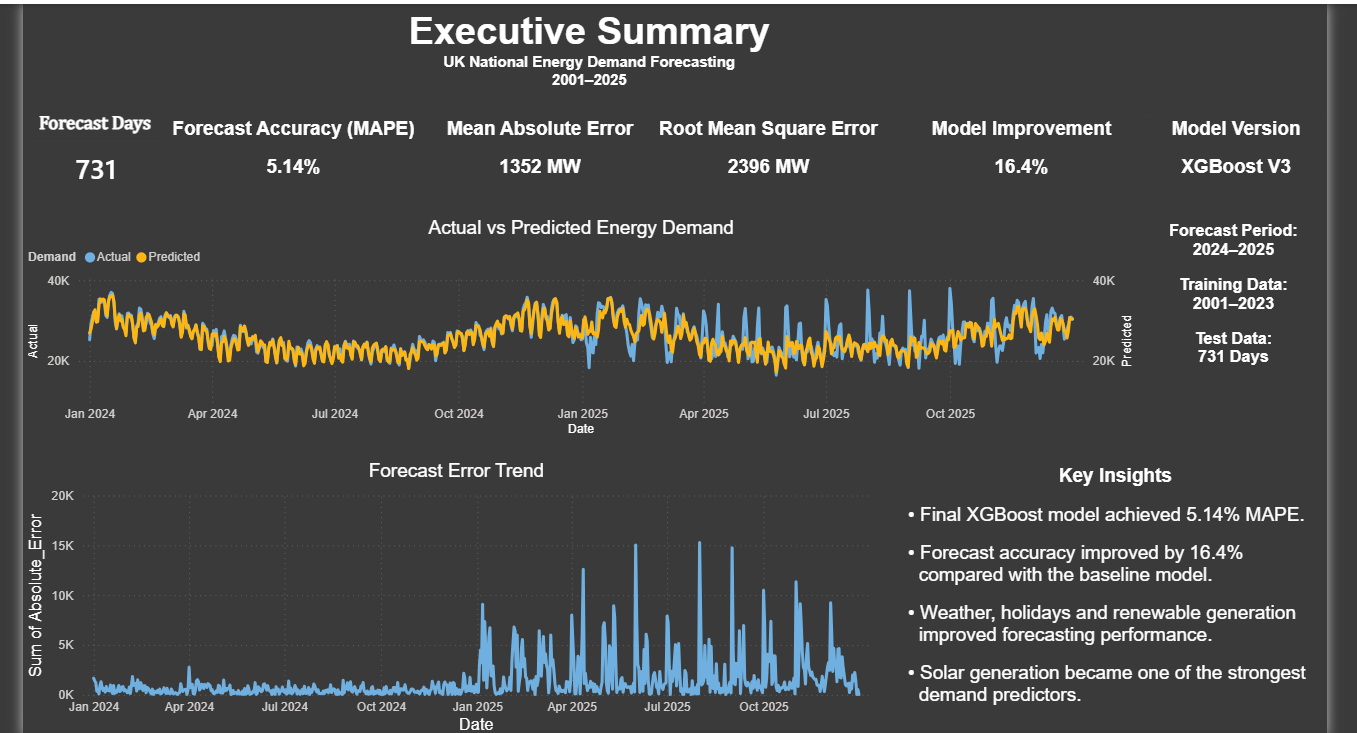

This screenshot's page, from the dashboard's own definition file:
{"tool":"powerbi","page":{"name":"Executive Summary","canvas":[1280,720],"ordinal":0},"visuals":[{"type":"textbox","box":[89.6,0,932.5,88.3],"z":0},{"type":"cardVisual","title":"Forecast Days","fields":{"Data":["CountNonNull(forecast_results.Date)"]},"box":[0,106.7,141.1,85.9],"z":1000},{"type":"textbox","box":[140.6,107,248.8,87.1],"z":2000},{"type":"textbox","box":[404.3,107,207.7,88.3],"z":3000},{"type":"textbox","box":[612,107,238.8,87.1],"z":4000},{"type":"textbox","box":[863.3,107,232.6,85.8],"z":5000},{"type":"textbox","box":[1102.1,107,177.9,85.8],"z":6000},{"type":"lineChart","title":"Actual vs Predicted Energy Demand","fields":{"Y":["Sum(forecast_results.Actual)"],"Category":["forecast_results.Date"],"Y2":["Sum(forecast_results.Predicted)"]},"box":[0,209,1095.9,220.2],"z":7000},{"type":"lineChart","title":"Forecast Error Trend","fields":{"Category":["forecast_results.Date"],"Y":["Sum(forecast_results.Absolute_Error)"]},"box":[0,447.3,850.8,273.1],"z":8000},{"type":"textbox","box":[863.3,447.8,416.7,272.4],"z":9000},{"type":"textbox","box":[1109.6,209,158,220.2],"z":10000}]}

Visuals, with their boxes on the page's 1280x720 design canvas (x1, y1, x2, y2). These are canvas units, not pixel positions in the 1357x733 screenshot, which may show the page scaled, cropped or inside an application window:
textbox: bbox=(90, 0, 1022, 88)
"Forecast Days" cardVisual: bbox=(0, 107, 141, 193)
textbox: bbox=(141, 107, 389, 194)
textbox: bbox=(404, 107, 612, 195)
textbox: bbox=(612, 107, 851, 194)
textbox: bbox=(863, 107, 1096, 193)
textbox: bbox=(1102, 107, 1280, 193)
"Actual vs Predicted Energy Demand" lineChart: bbox=(0, 209, 1096, 429)
"Forecast Error Trend" lineChart: bbox=(0, 447, 851, 720)
textbox: bbox=(863, 448, 1280, 720)
textbox: bbox=(1110, 209, 1268, 429)
